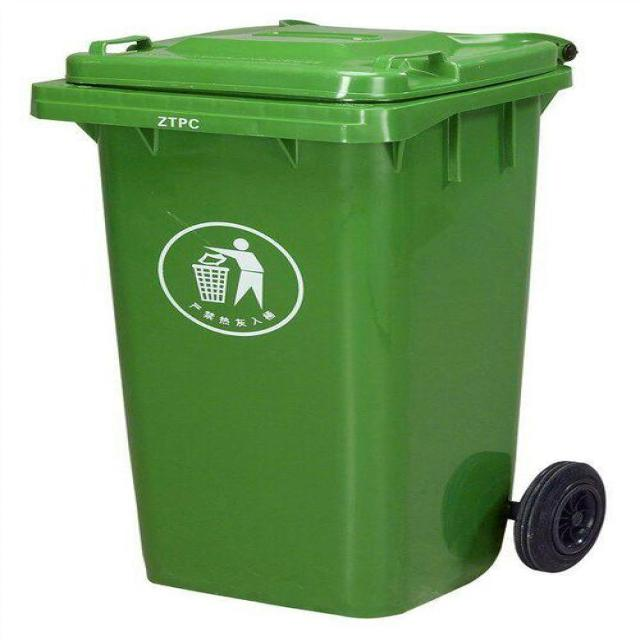garbage_bin: (28, 19, 579, 618)
